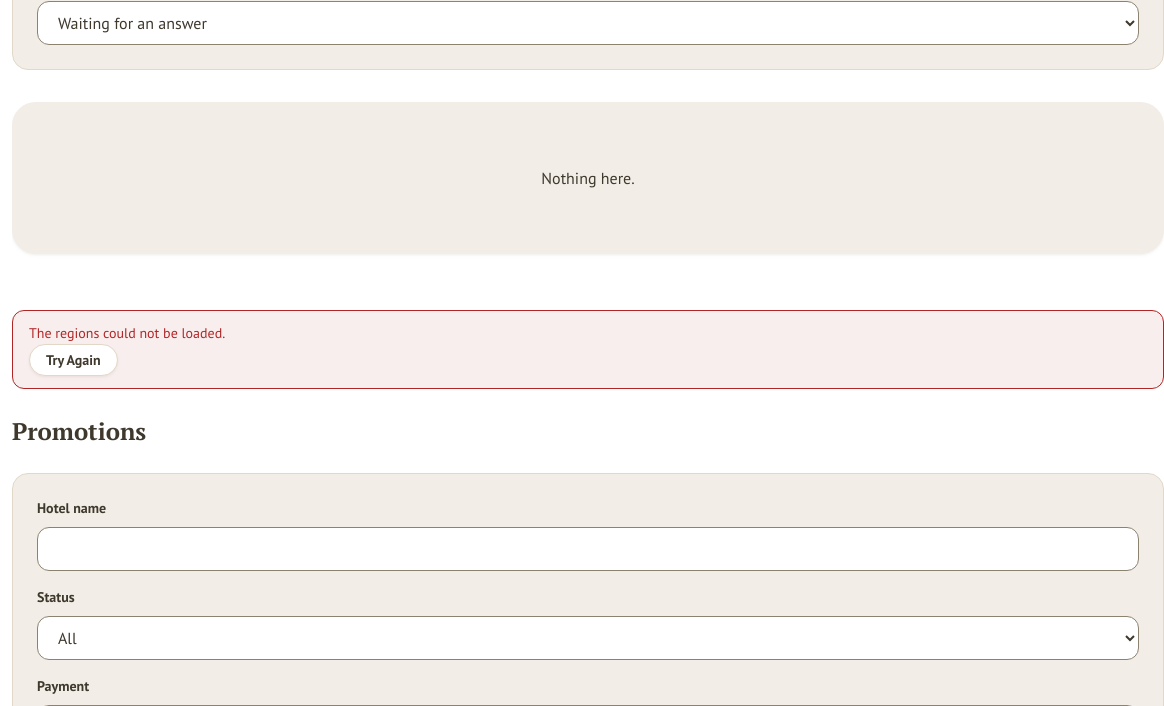
it: AdminPromotions regions › shows an error with a retry when the regions cannot be loaded
(page scrolled)
Expected: the message shows "The regions could not be loaded.", 29,324 -> 225,342
Click the button "Try Again" at (73, 360), box 29,344 -> 118,376
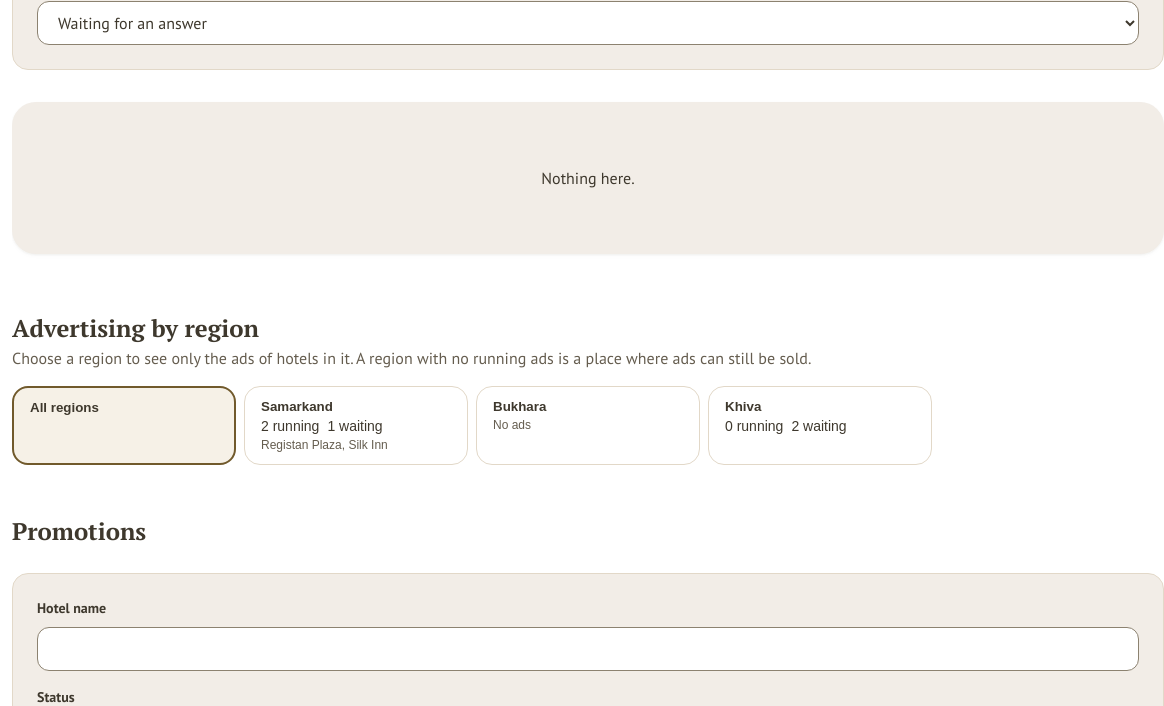
Expected: the button "Samarkand 2 running 1 waiting Registan Plaza, Silk Inn" is shown, 244,386 -> 468,465
